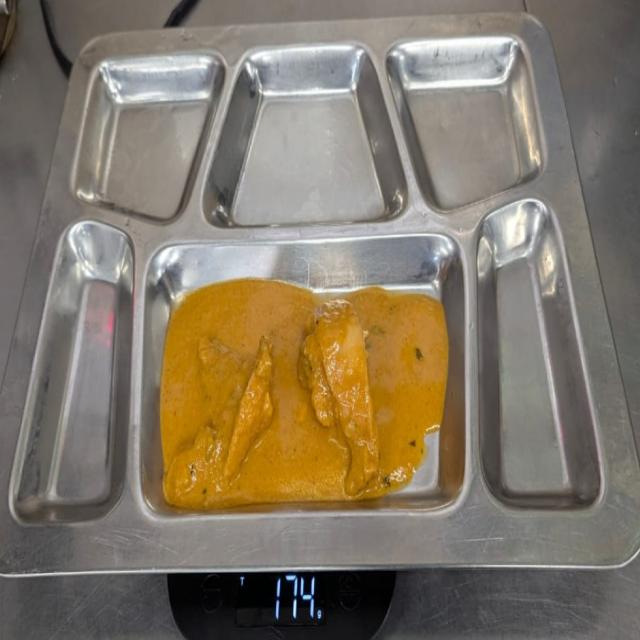Chicken Curry: (154, 265, 452, 504)
